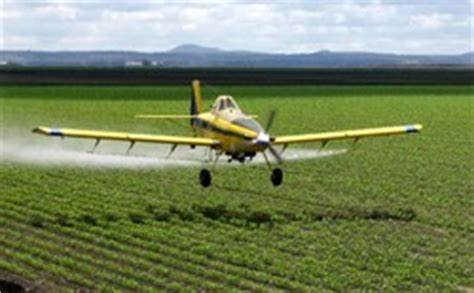Aeronef_de_service: (23, 74, 434, 192)
